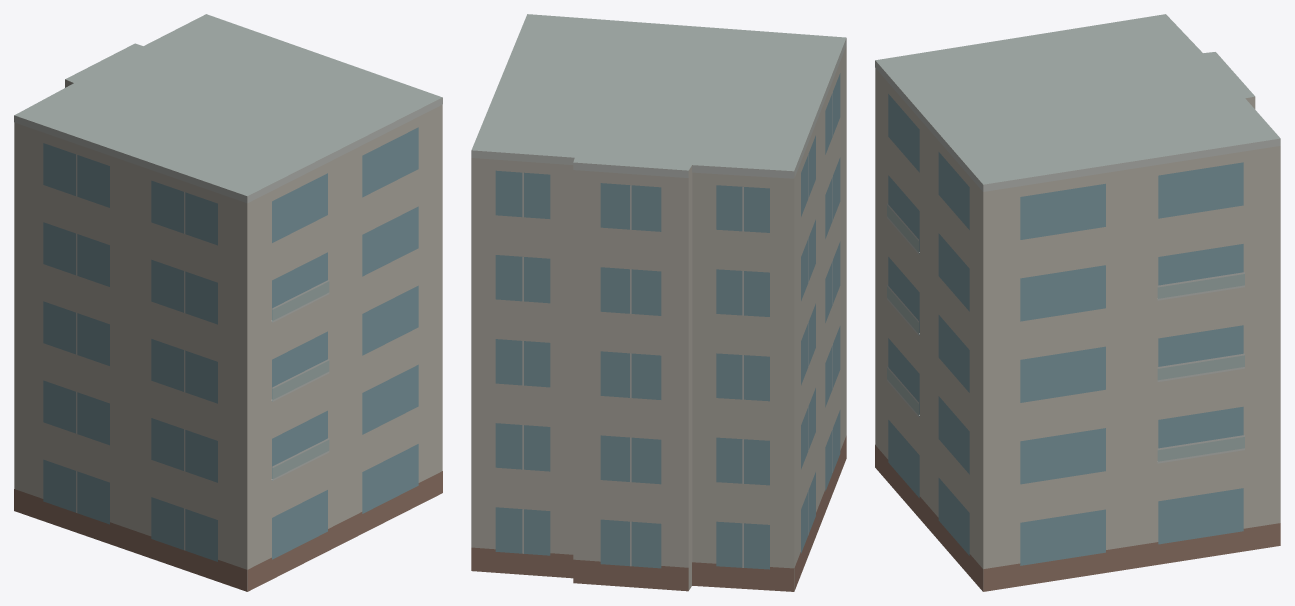
File: survey-upis-32949327.glb
The picture shows the model from 3 angles, left to right: view 1: azimuth 30°, elevation 25°; view 2: azimuth 150°, elevation 25°; view 3: azimuth 270°, elevation 25°; orthographic projection. The views are drawn at different scales.
Visible parts, largest first — view 1: survey-upis-32949327.tmp; view 2: survey-upis-32949327.tmp; view 3: survey-upis-32949327.tmp.
Part boxes in pixels (x1,y1,x2,y2): survey-upis-32949327.tmp: (14, 14, 442, 591); survey-upis-32949327.tmp: (471, 14, 846, 591); survey-upis-32949327.tmp: (875, 14, 1280, 591).
Size of the model in its own units: 12.23 by 13.6 by 12.29.
